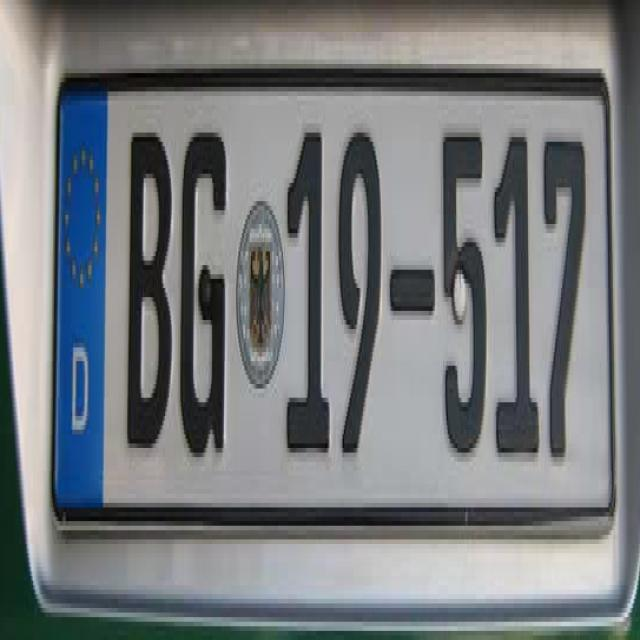Allemagne: (58, 76, 106, 506)
EU: (56, 70, 614, 528)
